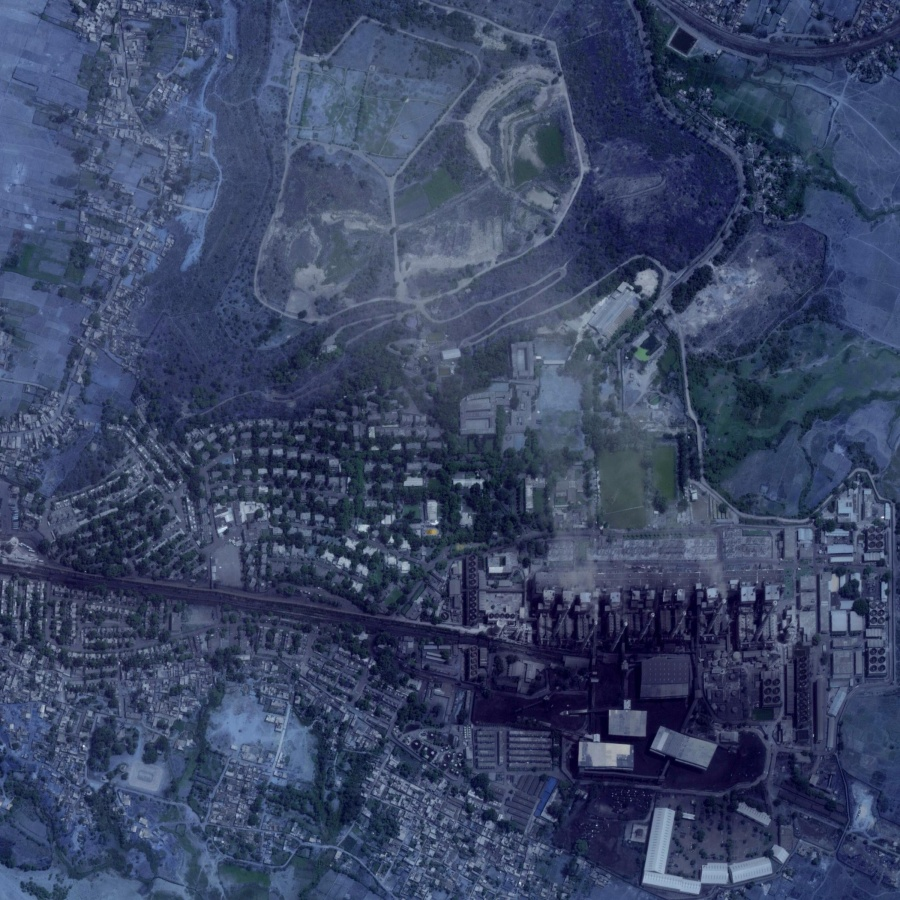PowerPlant: (473, 450, 896, 800)
